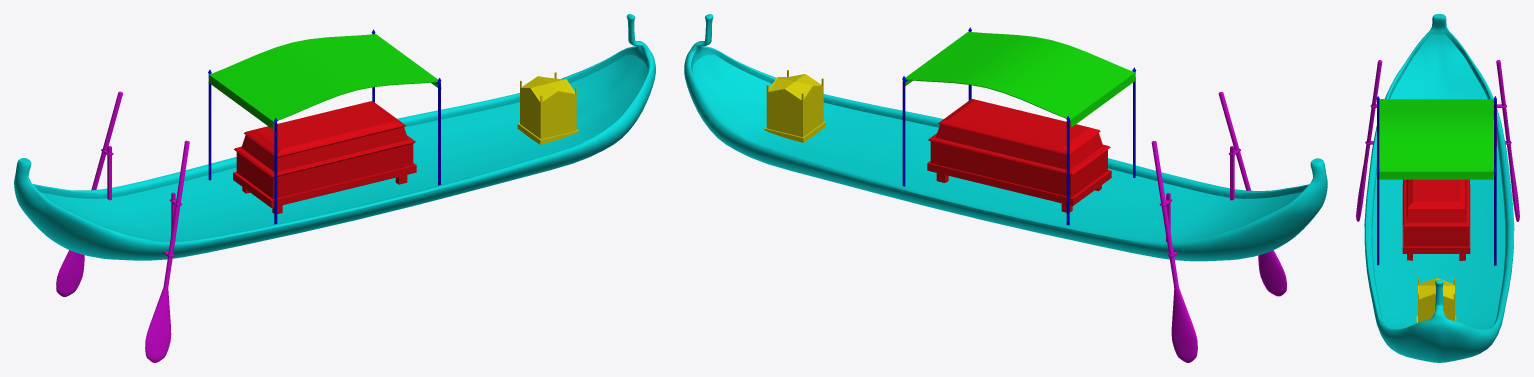
Rendered from SM_Boat.fbx.
The picture shows the model from 3 angles, left to right: view 1: azimuth 30°, elevation 25°; view 2: azimuth 150°, elevation 25°; view 3: azimuth 270°, elevation 25°; orthographic projection. The views are drawn at different scales.
Parts seen in each view (by area): view 1: Boat.005; view 2: Boat.005; view 3: Boat.005.
Boxes of the visible parts, x1,y1,x2,y2 form: Boat.005: [14, 14, 655, 362]; Boat.005: [684, 14, 1327, 362]; Boat.005: [1356, 14, 1519, 362].
Size of the model in its own units: 958 by 241 by 307.
